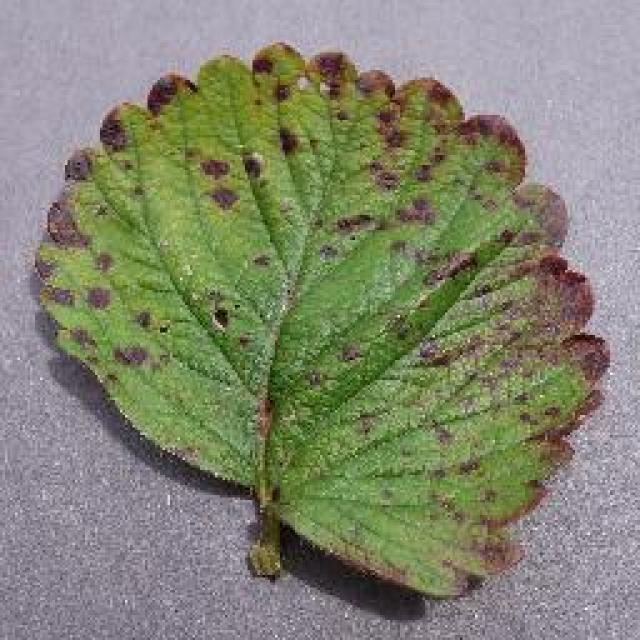Strawberry___Leaf_scorch: (51, 0, 540, 462)
